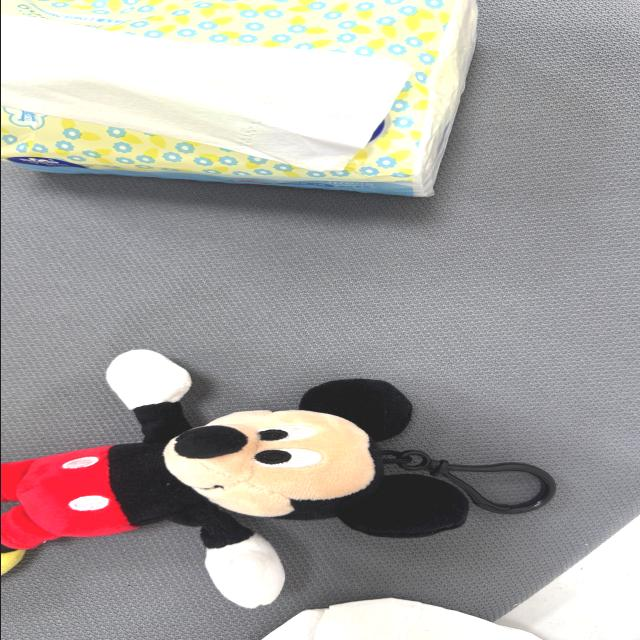mickey: (1, 350, 467, 608)
tissue: (1, 0, 475, 195), (263, 599, 537, 639)
